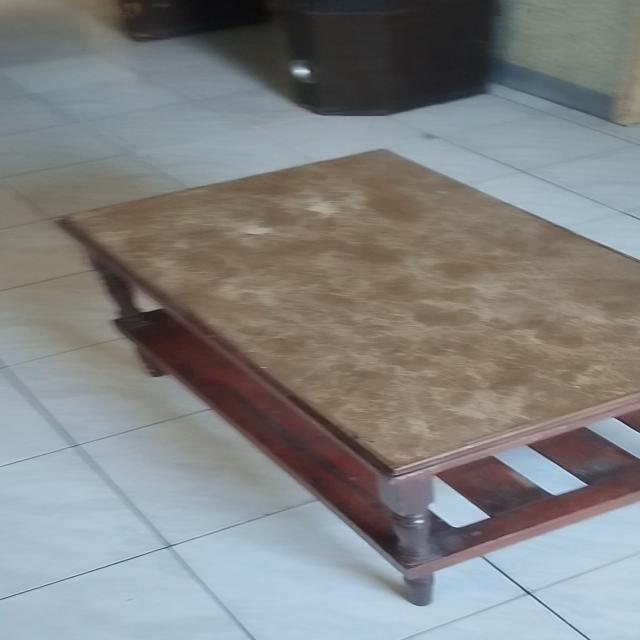table: (50, 148, 640, 607)
